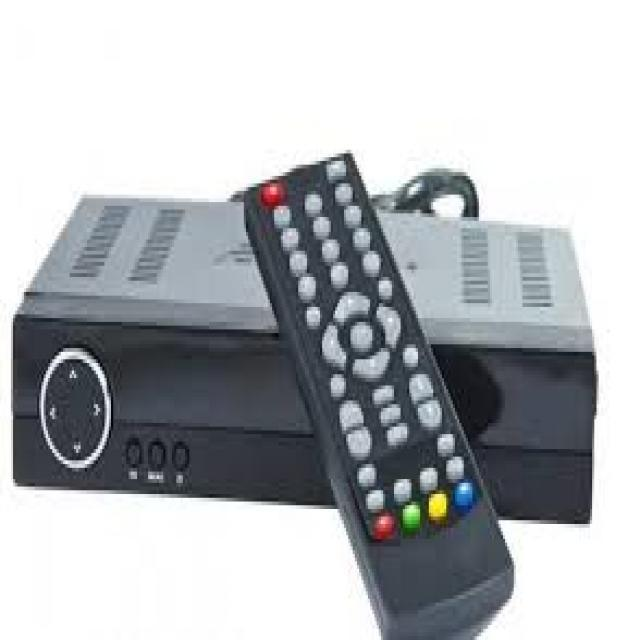remote: (247, 150, 517, 637)
